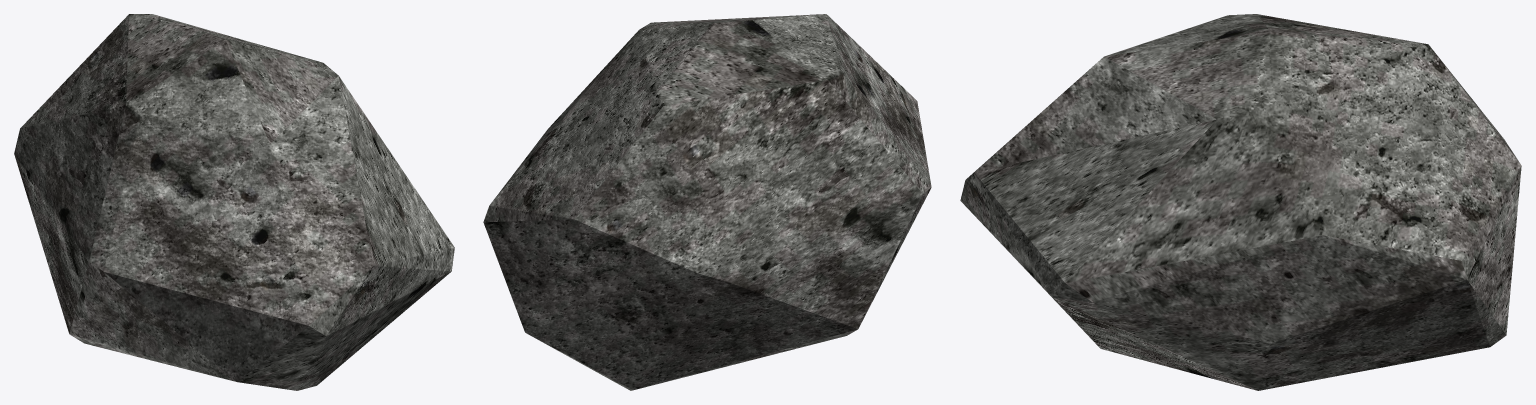
The model's file is roca.fbx.
3 views of the same model, side by side, from view 1: azimuth 30°, elevation 25°; view 2: azimuth 150°, elevation 25°; view 3: azimuth 270°, elevation 25° (orthographic). The views are drawn at different scales.
Visible parts, largest first — view 1: Esfera; view 2: Esfera; view 3: Esfera.
Part boxes in pixels (x1,y1,x2,y2): Esfera: (14, 14, 454, 390); Esfera: (483, 14, 931, 390); Esfera: (960, 14, 1521, 390).
Size of the model in its own units: 209 by 202 by 304.
Materials: 1 (1 with a texture image).
